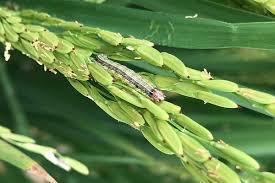fallarmy_worm: (94, 51, 168, 103)
